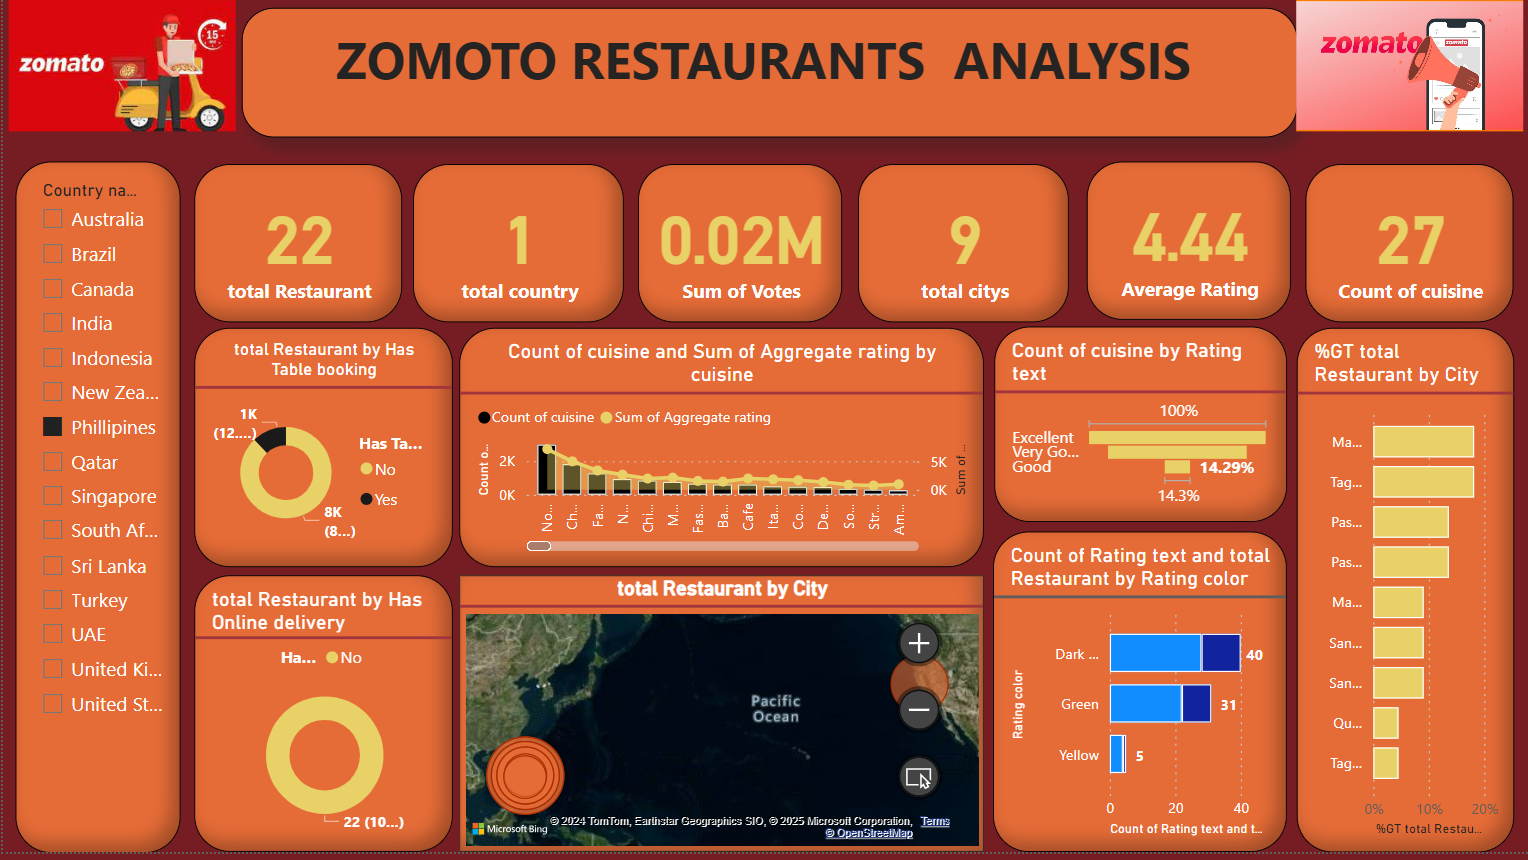

The page's visual inventory and layout, read from the dashboard file:
{"tool":"powerbi","page":{"name":"Page 1","canvas":[1280,720],"ordinal":0},"visuals":[{"type":"card","fields":{"Values":["zomato.total Restaurant"]},"box":[160,142.9,174.3,132.9],"z":0},{"type":"card","fields":{"Values":["zomato.total country"]},"box":[344.3,142.9,177.1,132.9],"z":1000},{"type":"card","fields":{"Values":["zomato.total citys"]},"box":[717.1,142.9,177.1,132.9],"z":2000},{"type":"card","fields":{"Values":["Sum(zomato.Votes)"]},"box":[532.9,142.9,171.4,132.9],"z":3000},{"type":"barChart","fields":{"Category":["zomato.City"],"Y":["Divide(zomato.total Restaurant, ScopedEval(zomato.total Restaurant, []))"]},"box":[1085.7,280,194.3,440],"z":4000},{"type":"map","fields":{"Category":["zomato.City"],"Size":["zomato.total Restaurant"]},"box":[382.9,487.9,440,232.1],"z":5000},{"type":"barChart","fields":{"Category":["zomato.Rating color"],"Y":["CountNonNull(zomato.Rating text)","zomato.total Restaurant"]},"box":[830,451.2,246.2,268.8],"z":6000},{"type":"funnel","fields":{"Category":["zomato.Rating text"],"Y":["CountNonNull(zomato.cuisine)"]},"box":[830.9,279.1,245.5,163.6],"z":7000},{"type":"card","fields":{"Values":["Avg(zomato.Aggregate rating)"]},"box":[908.6,140,171.4,132.9],"z":8000},{"type":"card","fields":{"Values":["Count(zomato.cuisine)"]},"box":[1092.9,142.9,174.3,132.9],"z":9000},{"type":"lineStackedColumnComboChart","fields":{"Category":["zomato.cuisine"],"Y":["CountNonNull(zomato.cuisine)"],"Y2":["Sum(zomato.Aggregate rating)"]},"box":[382.9,280,440,200.7],"z":10000},{"type":"donutChart","fields":{"Category":["zomato.Has Online delivery"],"Y":["zomato.total Restaurant"]},"box":[160,487.9,216.4,232.1],"z":11000},{"type":"donutChart","fields":{"Category":["zomato.Has Table booking"],"Y":["zomato.total Restaurant"]},"box":[160,280,216.4,200.7],"z":12000},{"type":"slicer","fields":{"Values":["zomato.Country name"]},"box":[10,140,138.6,580],"z":13000},{"type":"textbox","box":[200,15,885,88.3],"z":14000},{"type":"image","box":[1080,0,200,120],"z":15000},{"type":"image","box":[0,0,200,120],"z":16000}]}

Visuals, with their boxes in screenshot pixels (x1, y1, x2, y2), scaled from the page's 1280x720 canvas onto the 1528x860 screenshot:
card - zomato.total Restaurant: [x1=191, y1=171, x2=399, y2=329]
card - zomato.total country: [x1=411, y1=171, x2=622, y2=329]
card - zomato.total citys: [x1=856, y1=171, x2=1067, y2=329]
card - Sum(zomato.Votes): [x1=636, y1=171, x2=841, y2=329]
barChart - zomato.City x Divide(zomato.total Restaurant, ScopedEval(zomato.total Restaurant, [])): [x1=1296, y1=334, x2=1527, y2=859]
map - zomato.City x zomato.total Restaurant: [x1=457, y1=583, x2=982, y2=859]
barChart - zomato.Rating color x CountNonNull(zomato.Rating text): [x1=991, y1=539, x2=1285, y2=859]
funnel - zomato.Rating text x CountNonNull(zomato.cuisine): [x1=992, y1=333, x2=1285, y2=529]
card - Avg(zomato.Aggregate rating): [x1=1085, y1=167, x2=1289, y2=326]
card - Count(zomato.cuisine): [x1=1305, y1=171, x2=1513, y2=329]
lineStackedColumnComboChart - zomato.cuisine x CountNonNull(zomato.cuisine): [x1=457, y1=334, x2=982, y2=574]
donutChart - zomato.Has Online delivery x zomato.total Restaurant: [x1=191, y1=583, x2=449, y2=859]
donutChart - zomato.Has Table booking x zomato.total Restaurant: [x1=191, y1=334, x2=449, y2=574]
slicer - zomato.Country name: [x1=12, y1=167, x2=177, y2=859]
textbox: [x1=239, y1=18, x2=1295, y2=123]
image: [x1=1289, y1=0, x2=1527, y2=143]
image: [x1=0, y1=0, x2=239, y2=143]
